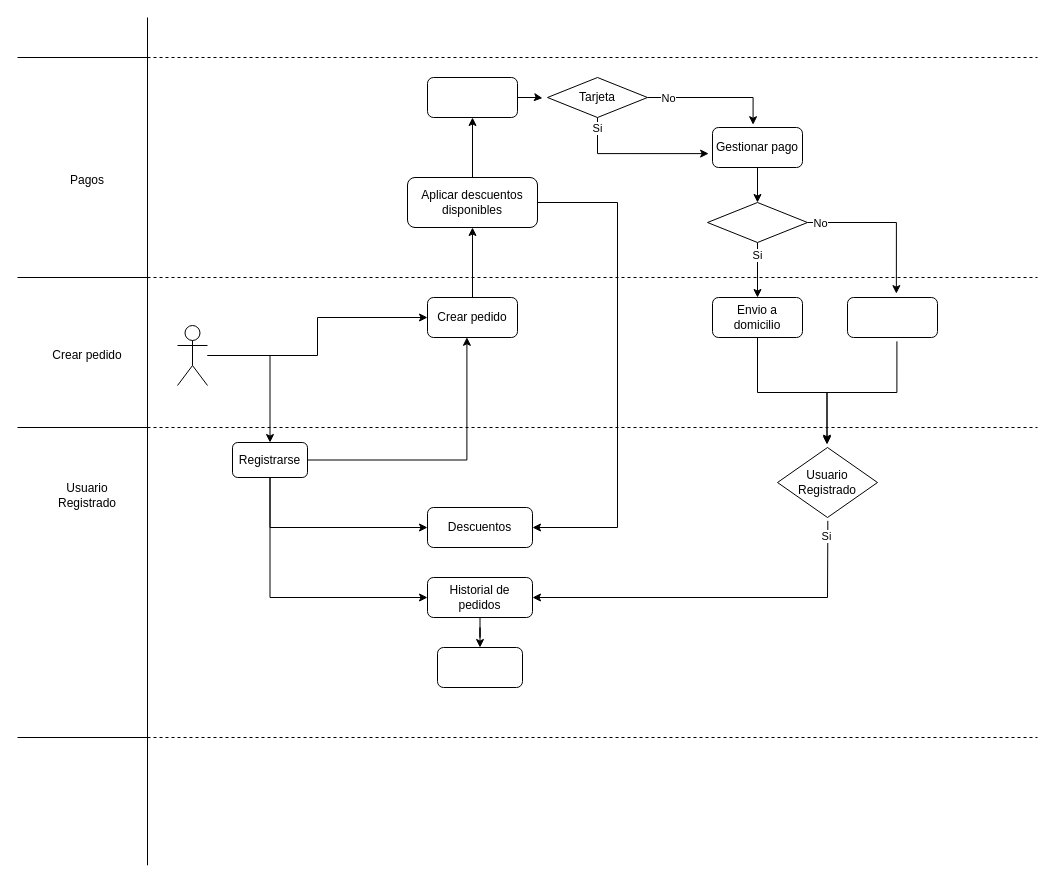
Image size: 1056x884. Some labels were removed from this diagram. The box of each missing label's shape, as (x1, y1, x2, y2) in pixels:
A Domicilio?: (706, 202, 808, 242)
Actor: (176, 324, 208, 386)
Método de pago: (426, 76, 518, 118)
Servir a mesa: (846, 296, 938, 338)
Valorar / Comentar: (436, 646, 522, 688)
